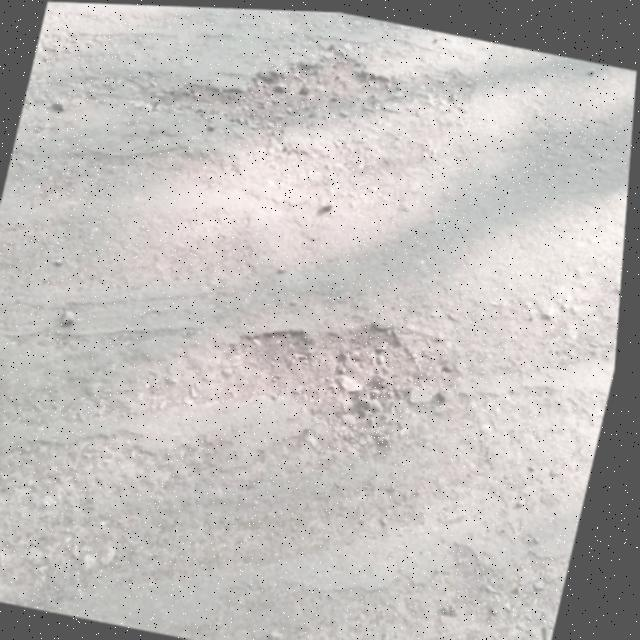pothole: (144, 6, 434, 179), (197, 279, 458, 457)
